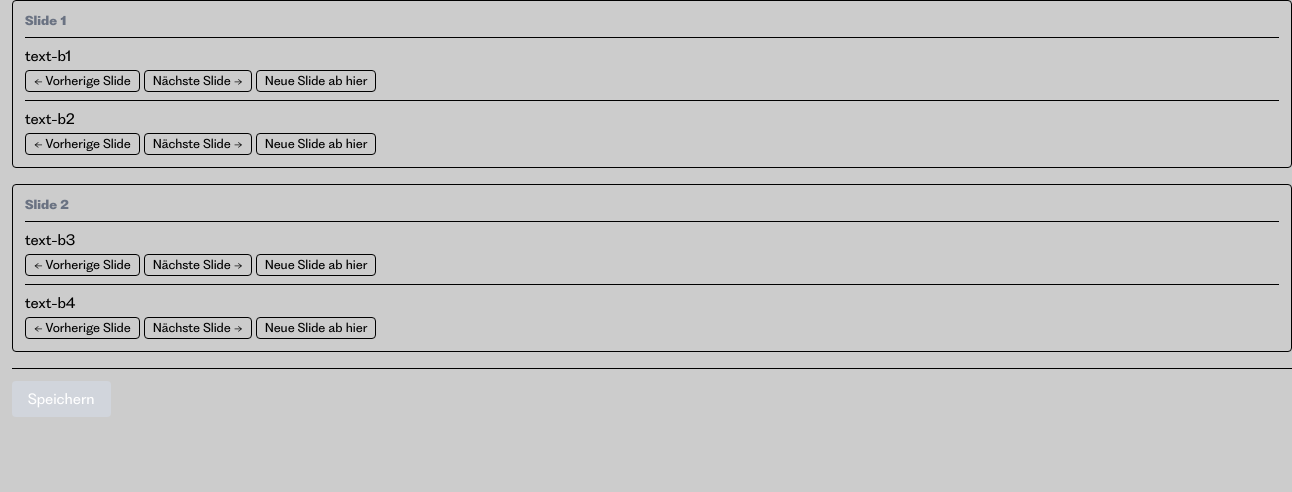
it: LayoutEditor › C-6: clicking Neue Slide ab hier splits, slide count grows by 1
This screenshot has width=1292, height=492.
Expected: the text "text-b1" is shown, [25,47,71,65]
Expected: the number of headings "Slide 1" is 2, [25,13,66,28]; [25,197,69,212]
# Click "Neue Slide ab hier" on b2 (slide 0, blockIdx 1).
Click the button "Neue Slide ab hier" below "text-b2": {"x": 316, "y": 144} [256,133,376,155]
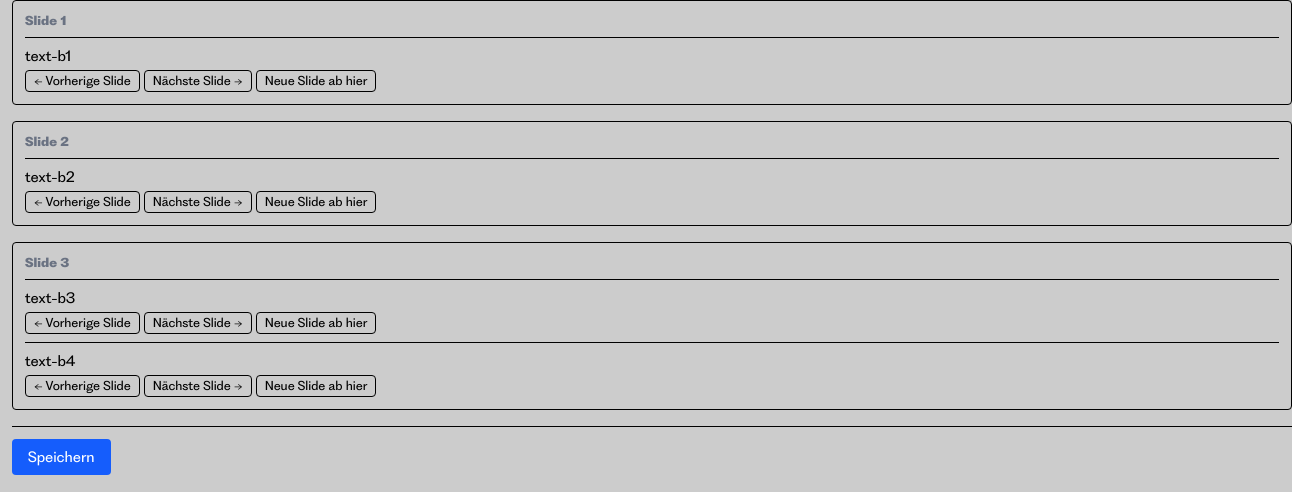
Expected: the number of headings "Slide 1" is 3, [25,13,66,28]; [25,134,69,149]; [25,255,69,270]
